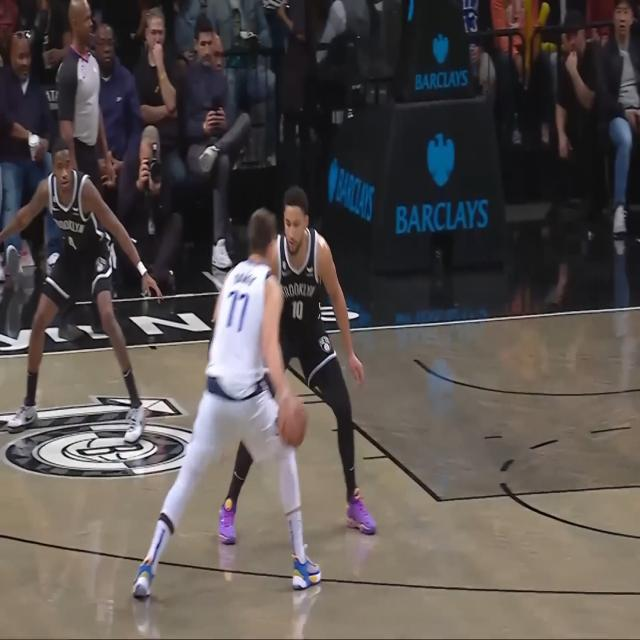Ball: (275, 390, 310, 450)
Player: (132, 202, 325, 605), (218, 181, 381, 545), (0, 138, 162, 442)
